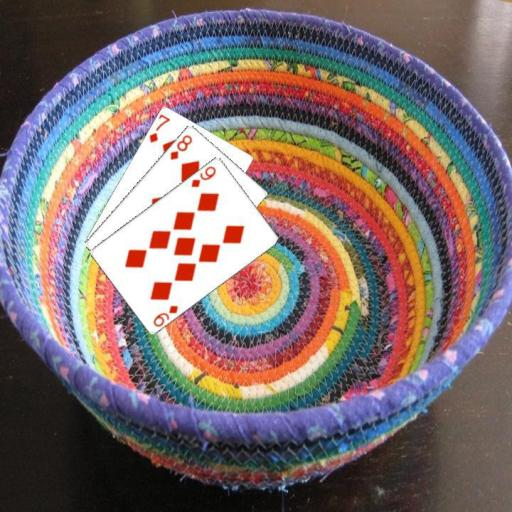7D: (146, 111, 171, 144)
8D: (167, 131, 194, 161)
9D: (188, 162, 218, 189), (150, 301, 179, 328)
